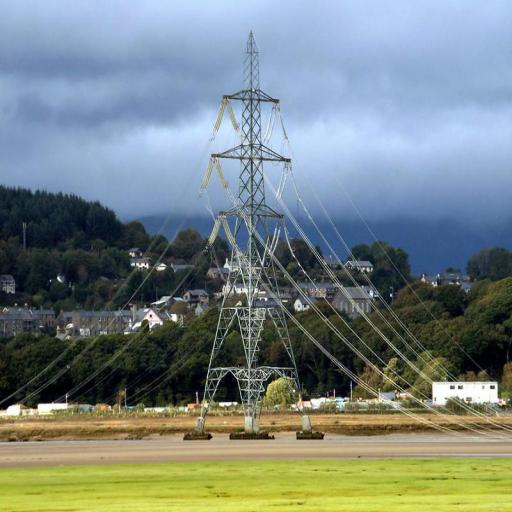ss_3: (195, 26, 318, 440)
